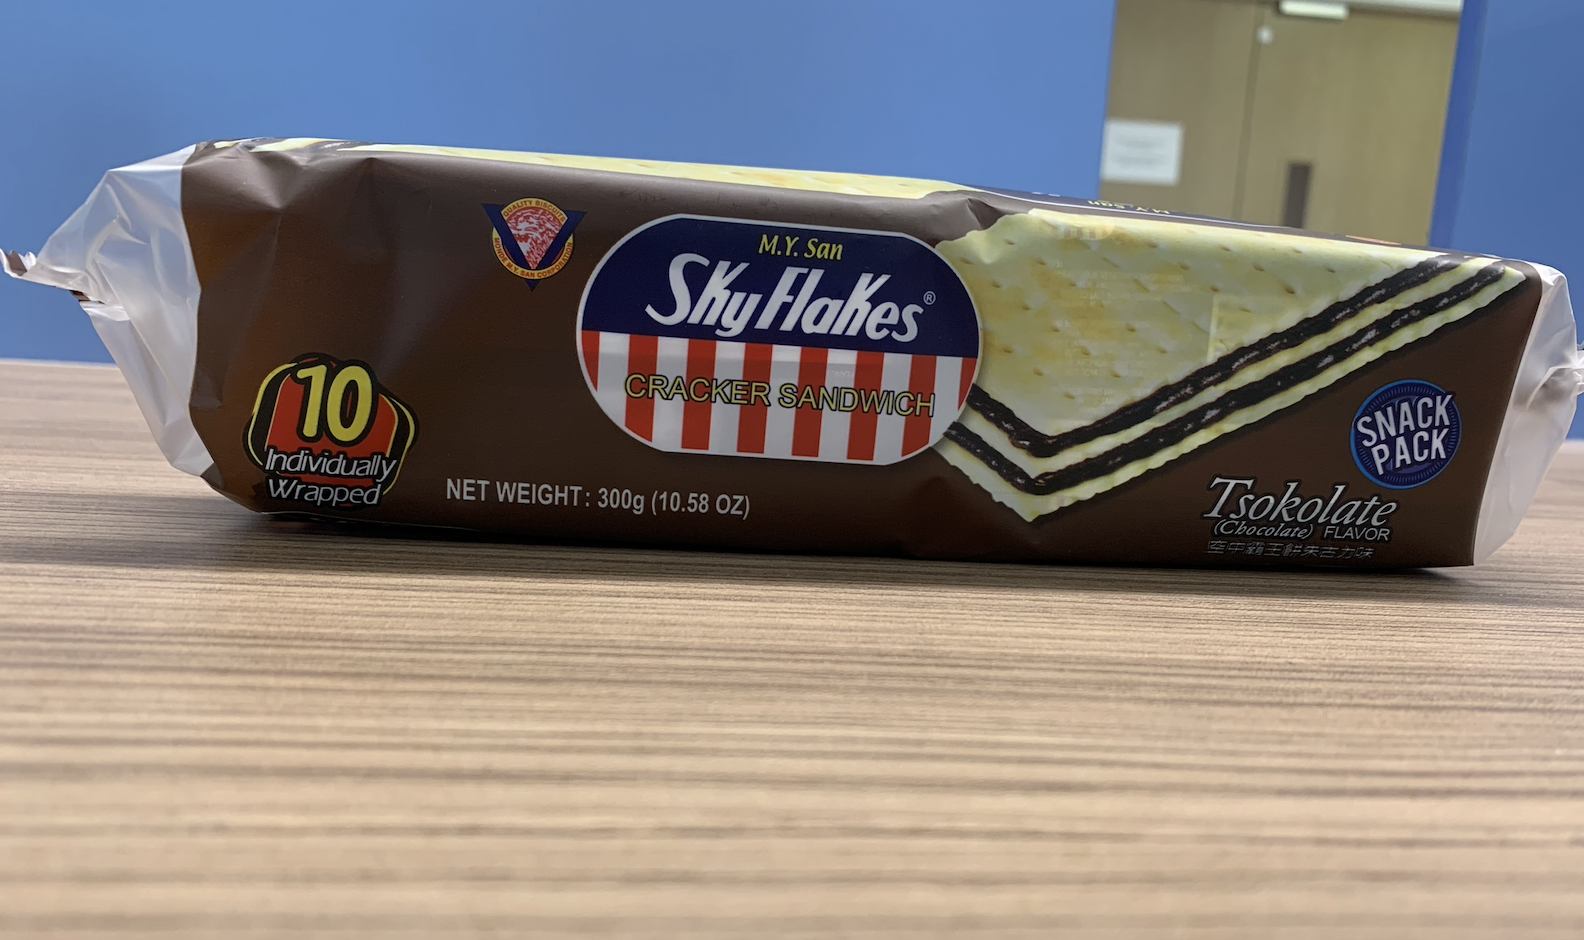crackers_450g: (248, 190, 1473, 549)
